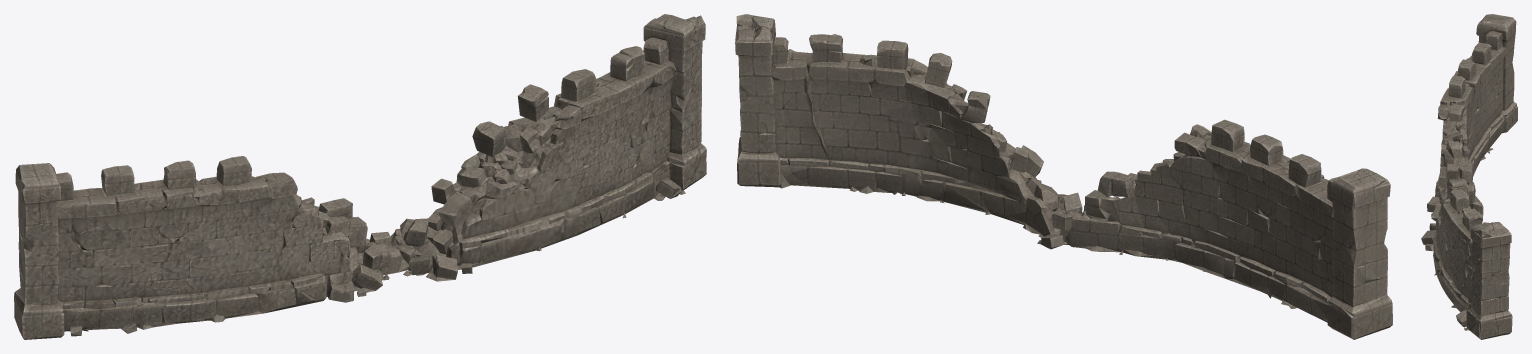
The model's file is inner_wall_segment_destroyed.glb.
The picture shows the model from 3 angles, left to right: view 1: azimuth 30°, elevation 25°; view 2: azimuth 150°, elevation 25°; view 3: azimuth 270°, elevation 25°; orthographic projection. The views are drawn at different scales.
Visible parts, largest first — view 1: output_unwrapped; view 2: output_unwrapped; view 3: output_unwrapped.
Part boxes in pixels (x1,y1,x2,y2): output_unwrapped: (14,14,706,339); output_unwrapped: (735,14,1392,339); output_unwrapped: (1421,14,1517,339).
Size of the model in its own units: 1.9 by 0.4273 by 0.3466.
1 material, 1 textured.
